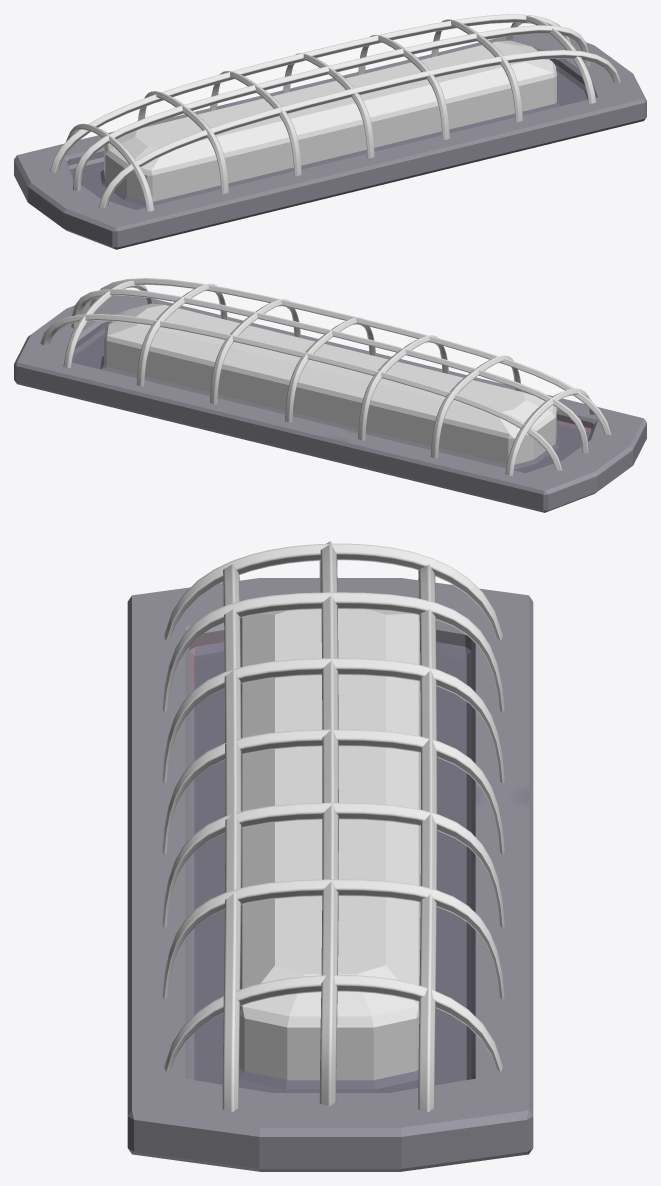
File: Lamp(4_1).fbx
3 views of the same model, one above another, from view 1: azimuth 30°, elevation 25°; view 2: azimuth 150°, elevation 25°; view 3: azimuth 270°, elevation 25° (orthographic). The views are drawn at different scales.
Parts seen in each view (by area): view 1: Plane.082, Plane.001, BezierCurve.002, BezierCurve, BezierCurve.001, BezierCurve.005, BezierCurve.007, BezierCurve.004, BezierCurve.006, BezierCurve.003, BezierCurve.009, BezierCurve.008; view 2: Plane.082, Plane.001, BezierCurve.001, BezierCurve, BezierCurve.002, BezierCurve.005, BezierCurve.004, BezierCurve.003, BezierCurve.007, BezierCurve.006, BezierCurve.009, BezierCurve.008; view 3: Plane.082, Plane.001, BezierCurve, BezierCurve.002, BezierCurve.001, BezierCurve.007, BezierCurve.006, BezierCurve.005, BezierCurve.004, BezierCurve.003, BezierCurve.009, BezierCurve.008.
Part boxes in pixels (x1=…): Plane.082: x1=14, y1=33, x2=646, y2=249; Plane.001: x1=104, y1=40, x2=556, y2=201; BezierCurve.002: x1=98, y1=50, x2=620, y2=208; BezierCurve: x1=73, y1=25, x2=590, y2=191; BezierCurve.001: x1=50, y1=14, x2=571, y2=172; BezierCurve.005: x1=210, y1=71, x2=301, y2=176; BezierCurve.007: x1=138, y1=91, x2=228, y2=193; BezierCurve.004: x1=358, y1=34, x2=449, y2=139; BezierCurve.006: x1=431, y1=19, x2=522, y2=122; BezierCurve.003: x1=283, y1=53, x2=374, y2=158; BezierCurve.009: x1=66, y1=123, x2=153, y2=211; BezierCurve.008: x1=506, y1=16, x2=595, y2=103; Plane.082: x1=14, y1=296, x2=646, y2=512; Plane.001: x1=104, y1=303, x2=556, y2=464; BezierCurve.001: x1=40, y1=314, x2=562, y2=470; BezierCurve: x1=71, y1=289, x2=588, y2=452; BezierCurve.002: x1=89, y1=278, x2=611, y2=434; BezierCurve.005: x1=358, y1=335, x2=448, y2=440; BezierCurve.004: x1=210, y1=299, x2=300, y2=404; BezierCurve.003: x1=285, y1=317, x2=375, y2=422; BezierCurve.007: x1=430, y1=355, x2=521, y2=458; BezierCurve.006: x1=136, y1=283, x2=227, y2=386; BezierCurve.009: x1=505, y1=388, x2=595, y2=475; BezierCurve.008: x1=63, y1=280, x2=152, y2=367; Plane.082: x1=127, y1=578, x2=533, y2=1171; Plane.001: x1=239, y1=609, x2=420, y2=1080; BezierCurve: x1=319, y1=541, x2=338, y2=1105; BezierCurve.002: x1=222, y1=564, x2=241, y2=1112; BezierCurve.001: x1=418, y1=564, x2=437, y2=1112; BezierCurve.007: x1=162, y1=592, x2=504, y2=712; BezierCurve.006: x1=162, y1=879, x2=504, y2=999; BezierCurve.005: x1=162, y1=658, x2=504, y2=783; BezierCurve.004: x1=162, y1=802, x2=504, y2=928; BezierCurve.003: x1=162, y1=729, x2=504, y2=854; BezierCurve.009: x1=164, y1=543, x2=502, y2=640; BezierCurve.008: x1=164, y1=975, x2=502, y2=1071.
Bounding box in the file's own units: 77.48 × 10.8 × 23.88.
